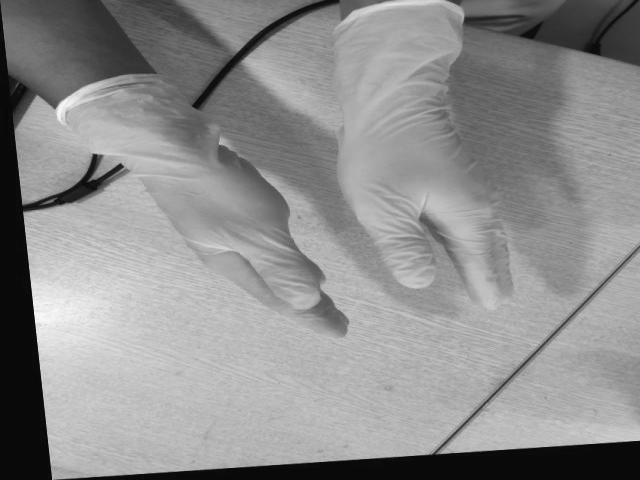gloved: (143, 138, 350, 340), (340, 103, 514, 310)
